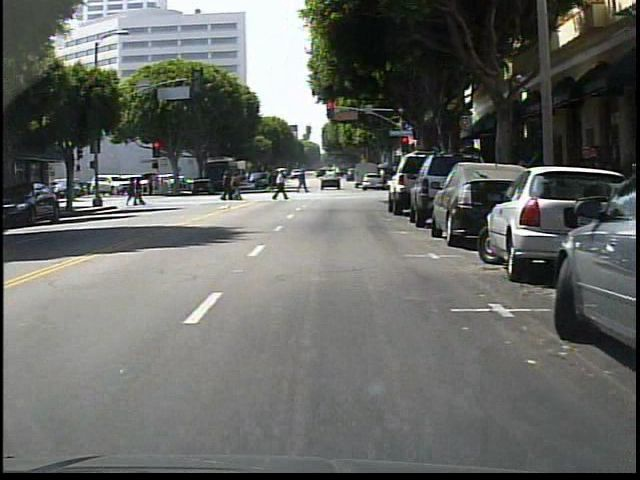person: (268, 167, 290, 205), (292, 168, 311, 197)
